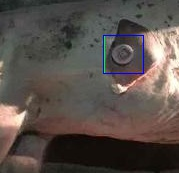text: (104, 35, 143, 73)
